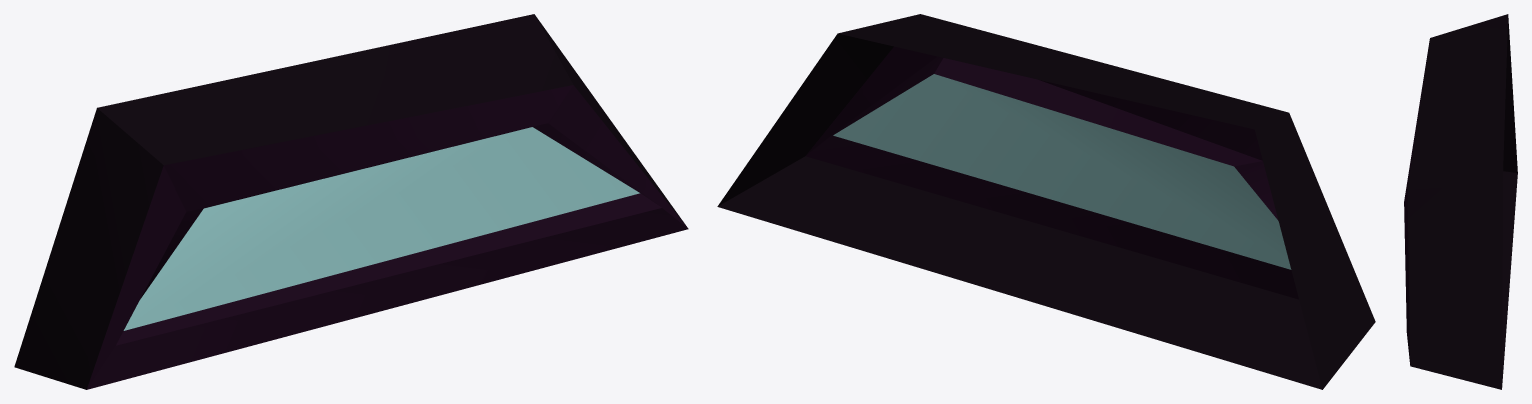
File: c_house_window_rectangle_ad.fbx
3 views of the same model, side by side, from view 1: azimuth 30°, elevation 25°; view 2: azimuth 150°, elevation 25°; view 3: azimuth 270°, elevation 25° (orthographic). The views are drawn at different scales.
Parts seen in each view (by area): view 1: c_house_window_rectangle_ad; view 2: c_house_window_rectangle_ad; view 3: c_house_window_rectangle_ad.
Boxes of the visible parts, x1,y1,x2,y2 form: c_house_window_rectangle_ad: (14, 14, 688, 389); c_house_window_rectangle_ad: (717, 14, 1375, 389); c_house_window_rectangle_ad: (1404, 14, 1517, 389).
Bounding box in the file's own units: 3.89 × 1.44 × 0.7906.
